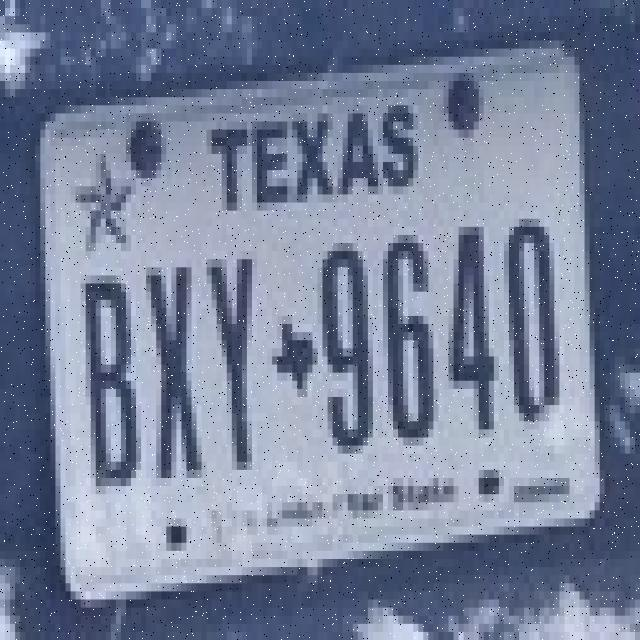LicensePlate: (31, 42, 632, 624)
